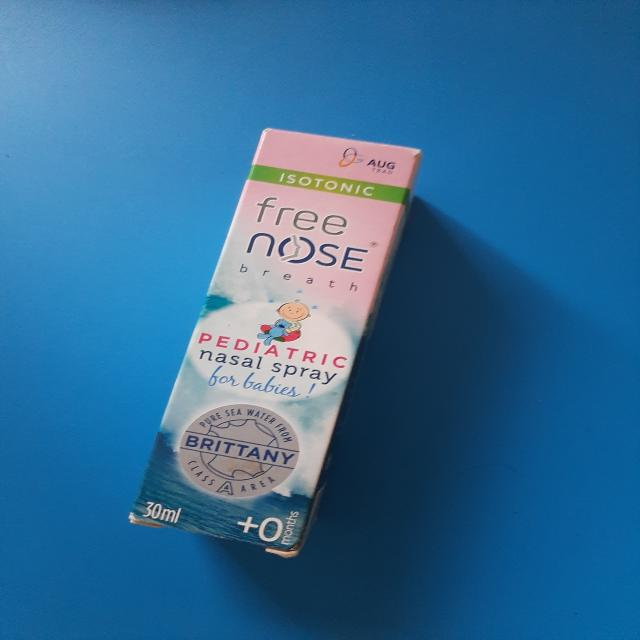Free Nose: (127, 126, 430, 564)
